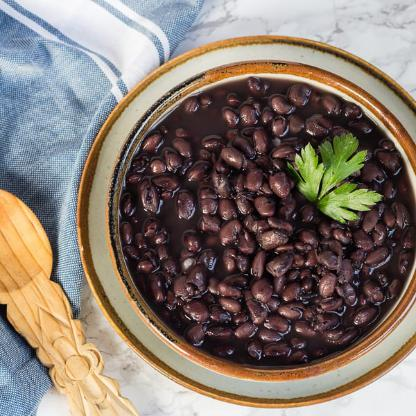black beans: (121, 76, 415, 364)
